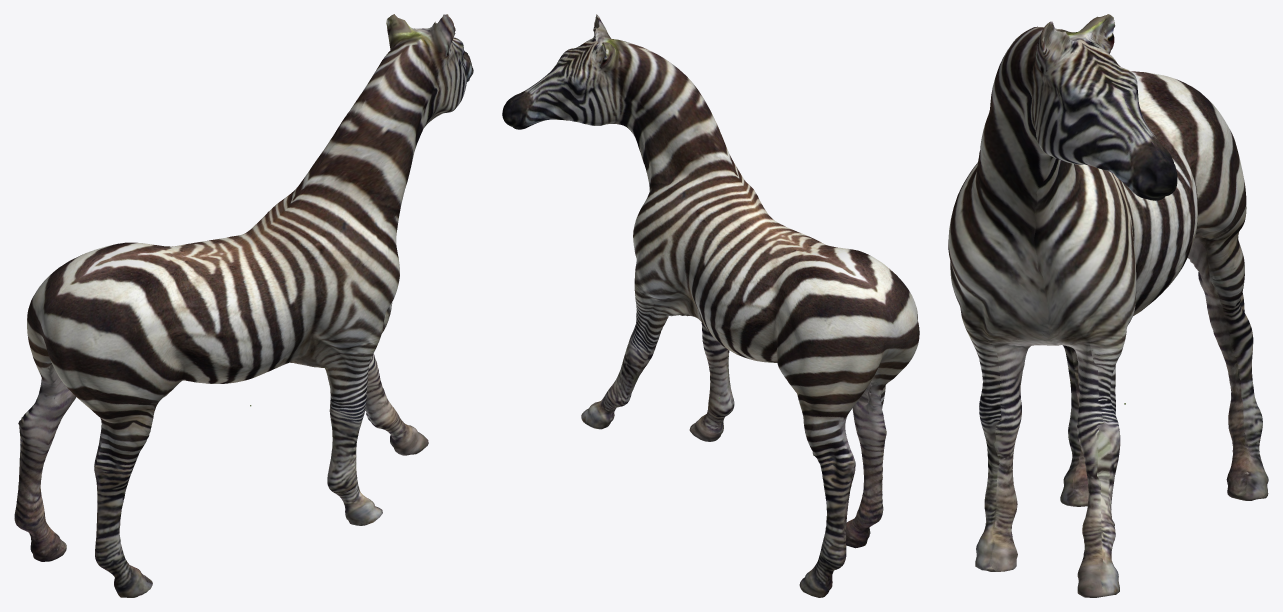
Rendered from zebra.obj.
3 renders of one model, left to right at view 1: azimuth 30°, elevation 25°; view 2: azimuth 150°, elevation 25°; view 3: azimuth 270°, elevation 25°, orthographic. The views are drawn at different scales.
Visible parts, largest first — view 1: object4, object0, object3, object1, object12; view 2: object0, object4, object5, object2, object12, object3; view 3: object0, object4, object2, object1, object3, object12, object5.
Part boxes in pixels (left/top/right/bottom): object4: left=42, top=21, right=473, bottom=597; object0: left=14, top=44, right=410, bottom=558; object3: left=15, top=376, right=76, bottom=561; object1: left=365, top=353, right=426, bottom=455; object12: left=386, top=14, right=455, bottom=55; object0: left=502, top=41, right=897, bottom=597; object4: left=502, top=15, right=919, bottom=546; object5: left=846, top=383, right=886, bottom=548; object2: left=689, top=323, right=732, bottom=441; object12: left=594, top=14, right=628, bottom=70; object3: left=774, top=359, right=855, bottom=594; object0: left=1034, top=16, right=1268, bottom=594; object4: left=948, top=22, right=1172, bottom=570; object2: left=989, top=339, right=1056, bottom=571; object1: left=1047, top=340, right=1103, bottom=592; object3: left=1187, top=231, right=1251, bottom=496; object12: left=1035, top=14, right=1115, bottom=74; object5: left=1071, top=347, right=1088, bottom=506.
Bounding box in the file's own units: 451 × 509 × 216.
2 materials, 1 textured.
